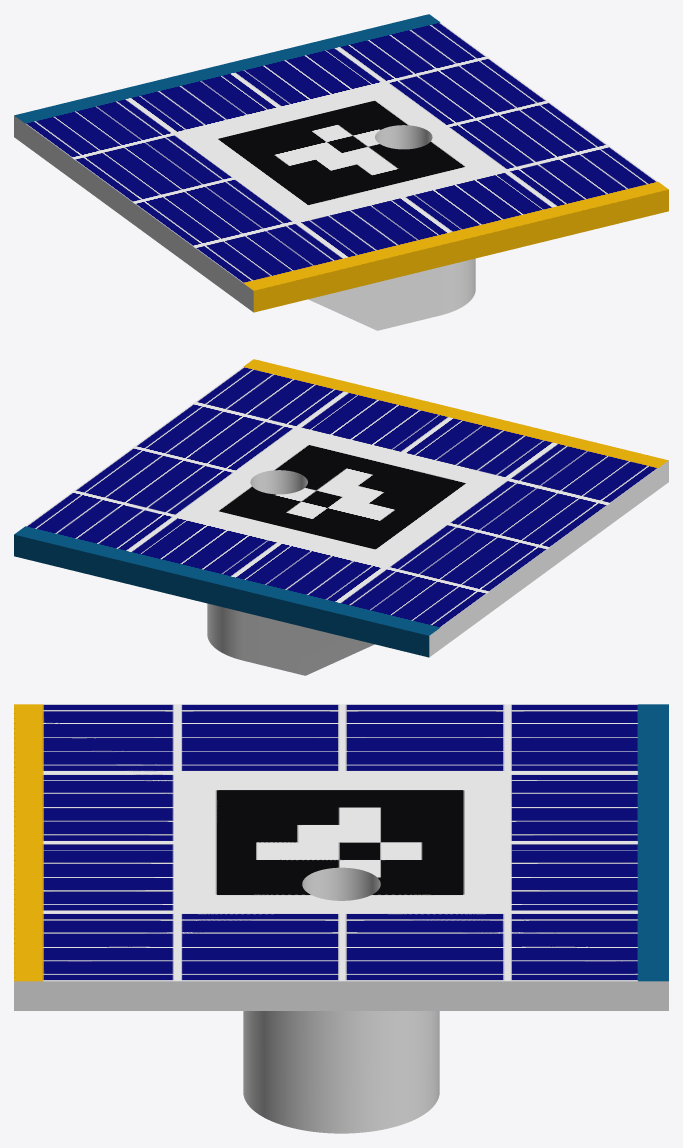
The model's file is Solar.fbx.
3 views of the same model, one above another, from view 1: azimuth 30°, elevation 25°; view 2: azimuth 150°, elevation 25°; view 3: azimuth 270°, elevation 25° (orthographic). The views are drawn at different scales.
Parts seen in each view (by area): view 1: Panneau_solaire; view 2: Panneau_solaire; view 3: Panneau_solaire.
Part boxes in pixels (box(x1,y1,x2,y2)): Panneau_solaire: box(14, 14, 668, 330); Panneau_solaire: box(14, 359, 668, 675); Panneau_solaire: box(14, 704, 668, 1133).
Bounding box in the file's own units: 10 × 3.5 × 10.
